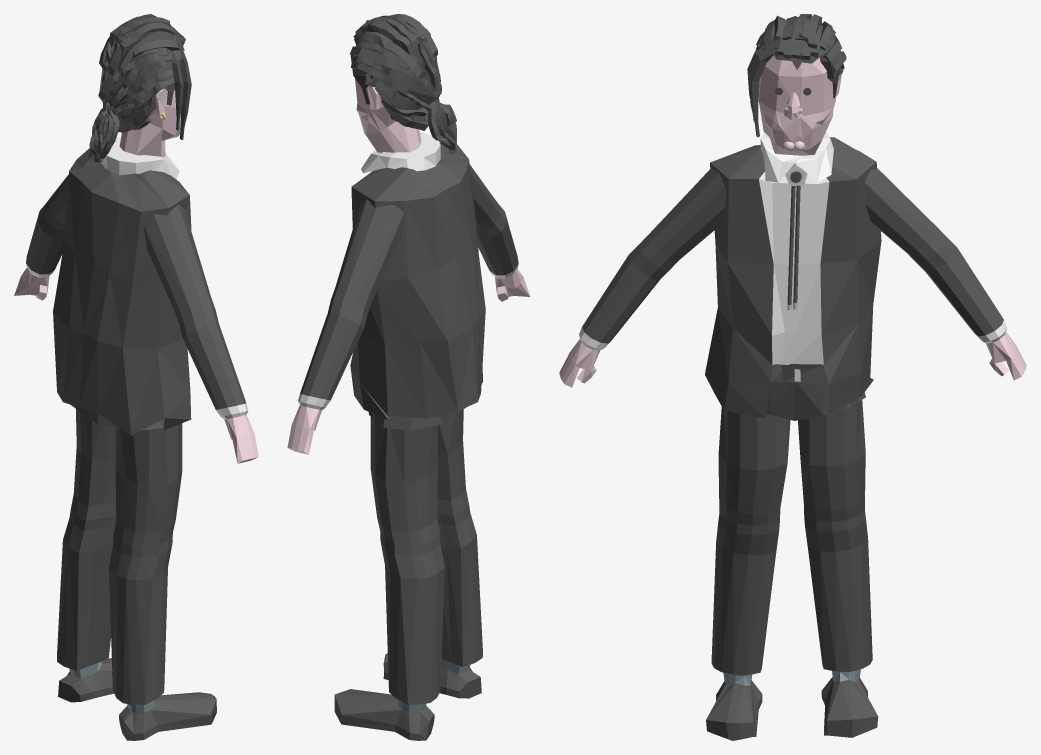
File: hombrexd.fbx
3 renders of one model, left to right at view 1: azimuth 30°, elevation 25°; view 2: azimuth 150°, elevation 25°; view 3: azimuth 270°, elevation 25°, orthographic. The views are drawn at different scales.
Parts seen in each view (by area): view 1: mesh_301048928; view 2: mesh_301048928; view 3: mesh_301048928.
Part boxes in pixels (<box>): mesh_301048928: <box>14,14,258,740</box>; mesh_301048928: <box>287,14,530,740</box>; mesh_301048928: <box>559,14,1026,740</box>.
Bounding box in the file's own units: 35.29 × 191 × 114.
